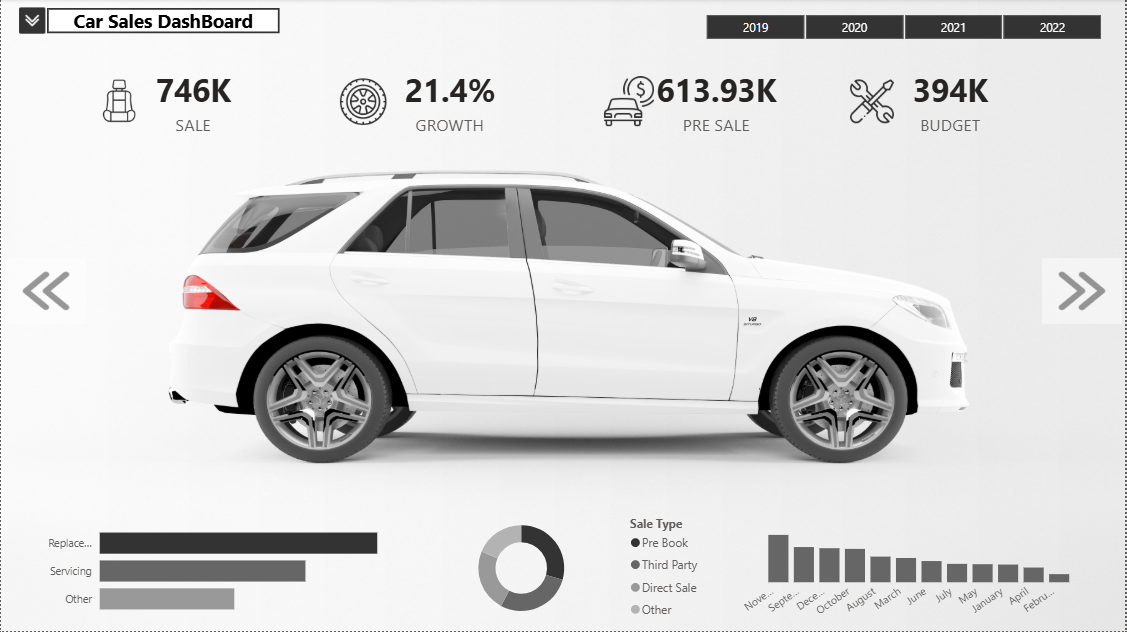

The page's visual inventory and layout, read from the dashboard file:
{"tool":"powerbi","page":{"name":"Model 1","canvas":[1280,720],"ordinal":0},"visuals":[{"type":"card","fields":{"Values":["Orders.Current Year Sales"]},"box":[95.7,48.1,246.6,135.9],"z":0},{"type":"card","fields":{"Values":["Orders.Sales Growth"]},"box":[383.4,48.1,255,135.9],"z":1000},{"type":"card","fields":{"Values":["Orders.Previous_years_sales"]},"box":[701.2,48.1,228.6,135.9],"z":2000},{"type":"card","fields":{"Values":["Budget.Budget Current Year Sales"]},"box":[967.2,48.1,228.6,135.9],"z":3000},{"type":"image","box":[83,85.4,102.3,61.4],"z":4000},{"type":"image","box":[360.9,85.4,102.3,62.6],"z":5000},{"type":"image","box":[654.4,80.6,123.9,71],"z":6000},{"type":"image","box":[943.2,86.6,98.6,60.2],"z":7000},{"type":"donutChart","fields":{"Category":["Orders.Category"],"Y":["Orders.Current Year Sales"]},"box":[463.2,582.3,344.1,132.3],"z":8000},{"type":"clusteredColumnChart","fields":{"Category":["Orders.Ordered Month"],"Y":["Orders.Current Year Sales"]},"box":[822.9,582.3,411.4,132.3],"z":9000},{"type":"clusteredBarChart","fields":{"Category":["Orders.Segment"],"Y":["Orders.Current Year Sales"]},"box":[36.1,582.3,411.4,132.3],"z":10000},{"type":"slicer","fields":{"Values":["Orders.Ordered Year"]},"box":[778.3,10.8,499.2,37.3],"z":11000},{"type":"shape","box":[52.5,10,265,28.8],"z":12000},{"type":"image","box":[5,5,62.5,40],"z":13000},{"type":"actionButton","box":[6.2,295,91.2,75],"z":15000},{"type":"actionButton","box":[1186.2,295,91.2,75],"z":16000}]}

Visuals, with their boxes in screenshot pixels (x1, y1, x2, y2), scaled from the page's 1280x720 canvas onto the 1127x632 screenshot:
card - Orders.Current Year Sales: BBox(84, 42, 301, 162)
card - Orders.Sales Growth: BBox(338, 42, 562, 162)
card - Orders.Previous_years_sales: BBox(617, 42, 819, 162)
card - Budget.Budget Current Year Sales: BBox(852, 42, 1053, 162)
image: BBox(73, 75, 163, 129)
image: BBox(318, 75, 408, 130)
image: BBox(576, 71, 685, 133)
image: BBox(830, 76, 917, 129)
donutChart - Orders.Category x Orders.Current Year Sales: BBox(408, 511, 711, 627)
clusteredColumnChart - Orders.Ordered Month x Orders.Current Year Sales: BBox(725, 511, 1087, 627)
clusteredBarChart - Orders.Segment x Orders.Current Year Sales: BBox(32, 511, 394, 627)
slicer - Orders.Ordered Year: BBox(685, 9, 1125, 42)
shape: BBox(46, 9, 280, 34)
image: BBox(4, 4, 59, 40)
actionButton: BBox(5, 259, 86, 325)
actionButton: BBox(1044, 259, 1125, 325)
